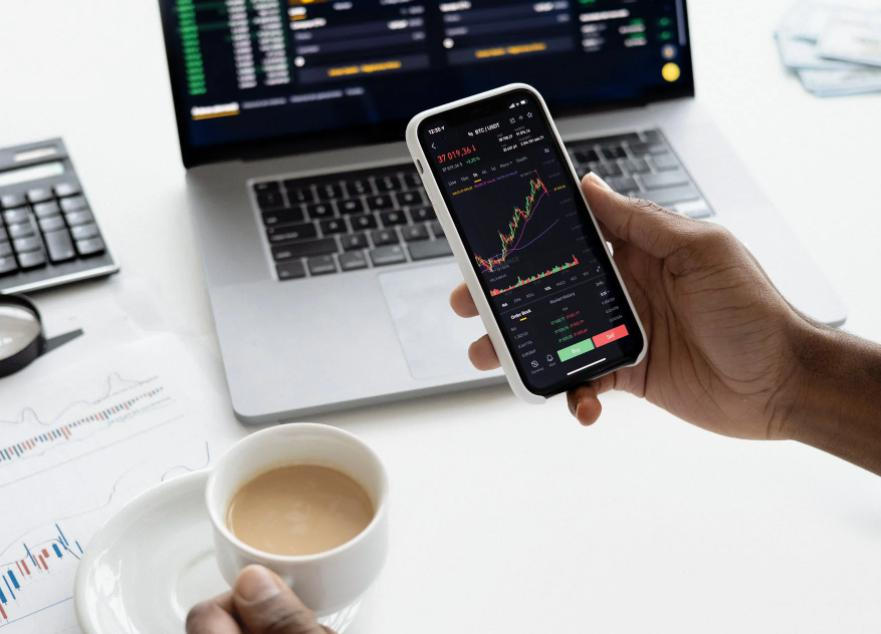mobile: (405, 83, 649, 401)
